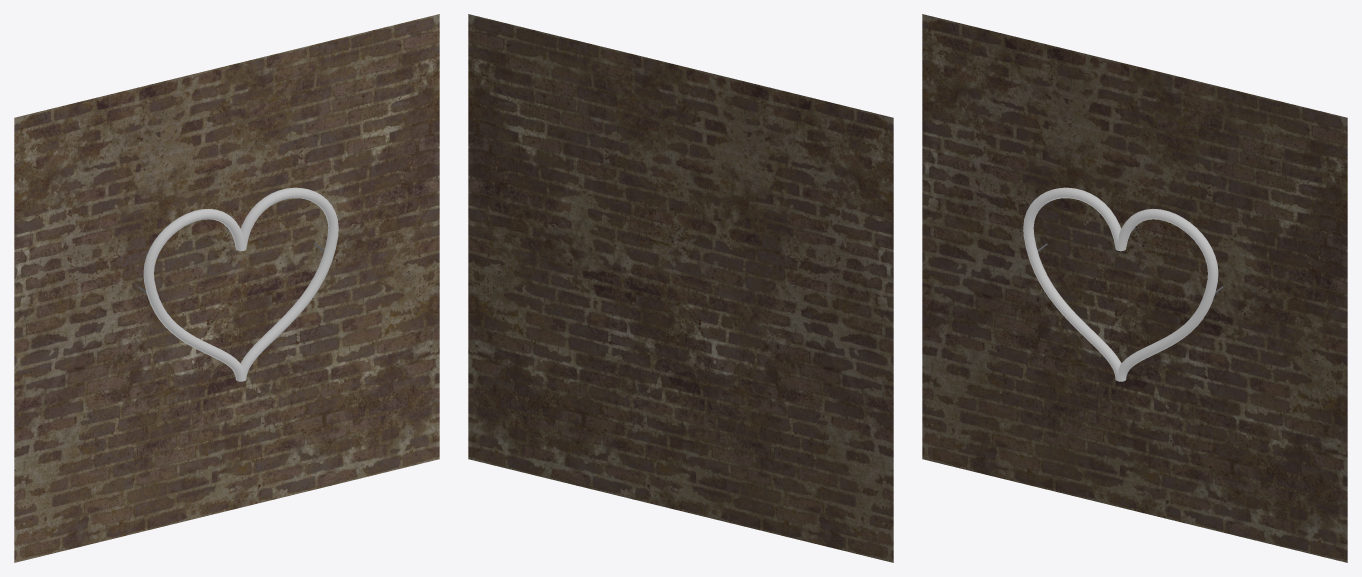
Rendered from neon-heart.v1.glb.
3 views of the same model, side by side, from view 1: azimuth 30°, elevation 25°; view 2: azimuth 150°, elevation 25°; view 3: azimuth 330°, elevation 25° (orthographic).
Visible parts, largest first — view 1: wall__0, heart_neon_heart_0; view 2: wall__0; view 3: wall__0, heart_neon_heart_0.
Part boxes in pixels (x1,y1,x2,y2): wall__0: (14,14,439,562); heart_neon_heart_0: (138,187,338,381); wall__0: (468,14,893,562); wall__0: (922,14,1347,562); heart_neon_heart_0: (1023,187,1223,381).
Bounding box in the file's own units: 154 × 154 × 10.49.
Materials: 2 (2 with a texture image).
